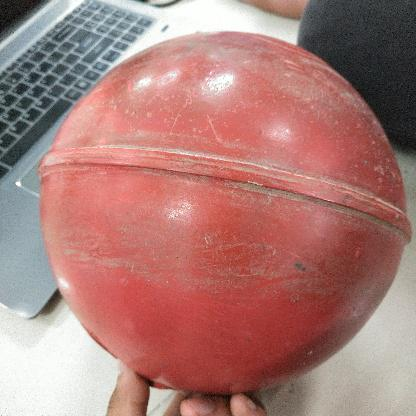red_buoy: (38, 31, 411, 394)
